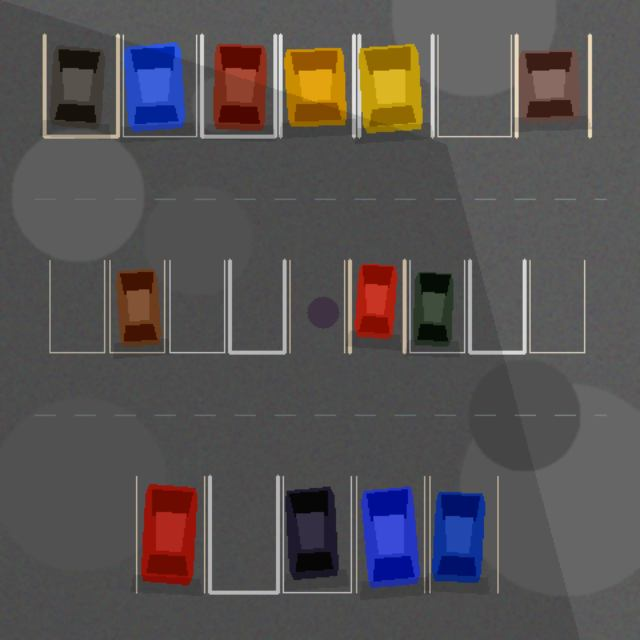space-empty: (209, 476, 277, 592), (437, 35, 511, 136), (49, 260, 104, 352), (169, 260, 224, 352), (229, 260, 284, 352), (289, 260, 344, 352), (469, 260, 524, 352), (529, 260, 584, 352)
space-occupied: (136, 476, 204, 592), (283, 476, 351, 592), (356, 476, 424, 592), (429, 476, 497, 592), (201, 35, 275, 136), (44, 35, 117, 136), (123, 35, 196, 136), (280, 35, 353, 136), (359, 35, 432, 136), (516, 35, 589, 136), (109, 260, 164, 352), (349, 260, 404, 352), (409, 260, 464, 352)
